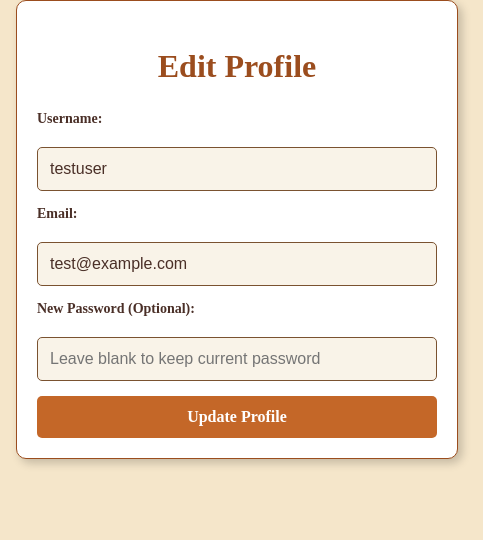
Test case: EditProfile Component › updates profile and redirects on success
Replace the text in the field labelled "Username:" with "updateduser". click: (237, 169)
box: [37, 147, 437, 191]
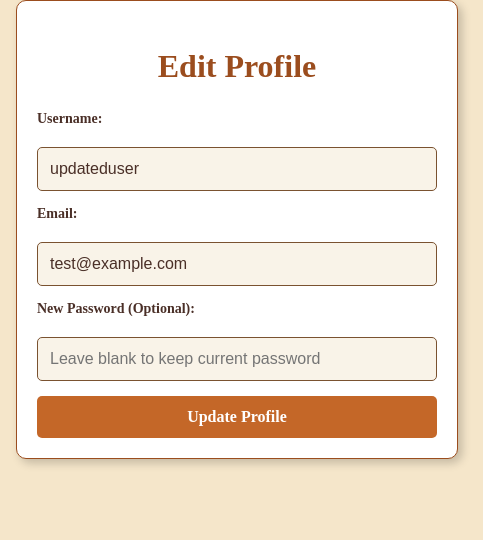
Replace the text in the field labelled "Email:" with "updated@example.com". click: (237, 264)
box: [37, 242, 437, 286]
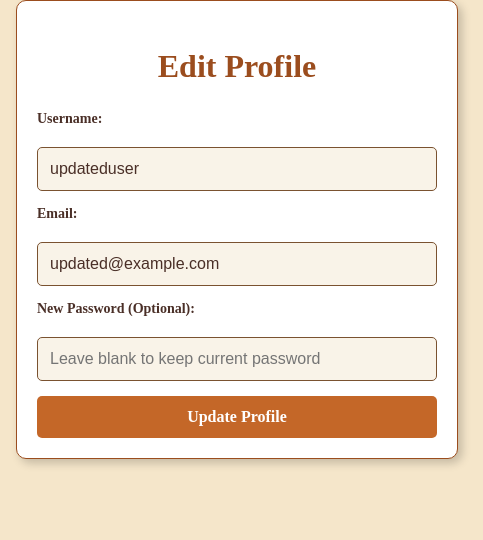
Click the button "Update Profile". click: click(237, 417)
box: [37, 396, 437, 438]
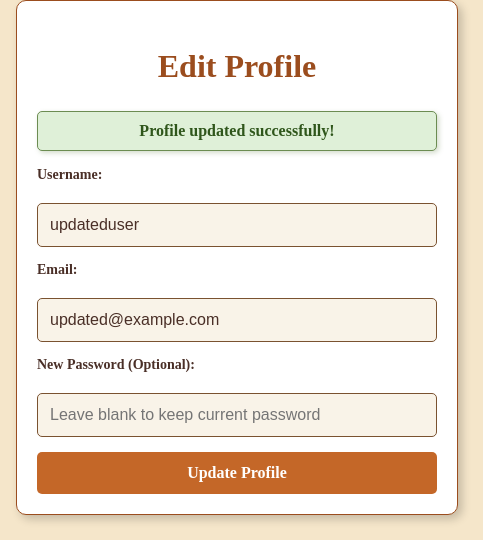
Expected: the text "Profile updated successfully!" is shown, [37, 111, 437, 151]
